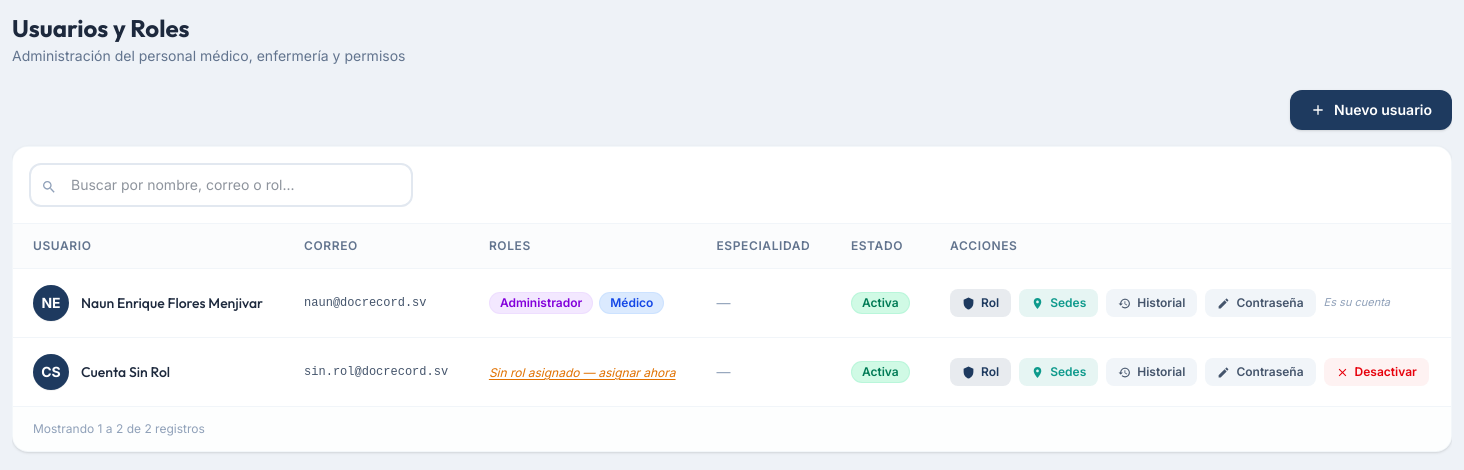
Test: con rol Administrador › busca dentro de lo que vino del API
The width and height of the screenshot is (1464, 470).
Check: the text "Naun Enrique Flores Menjivar" is shown, box [81,293,263,313]
Type "sin.rol" into the field with placeholder "Buscar por nombre, correo o rol..." at (221, 185), box [29,163,413,207]
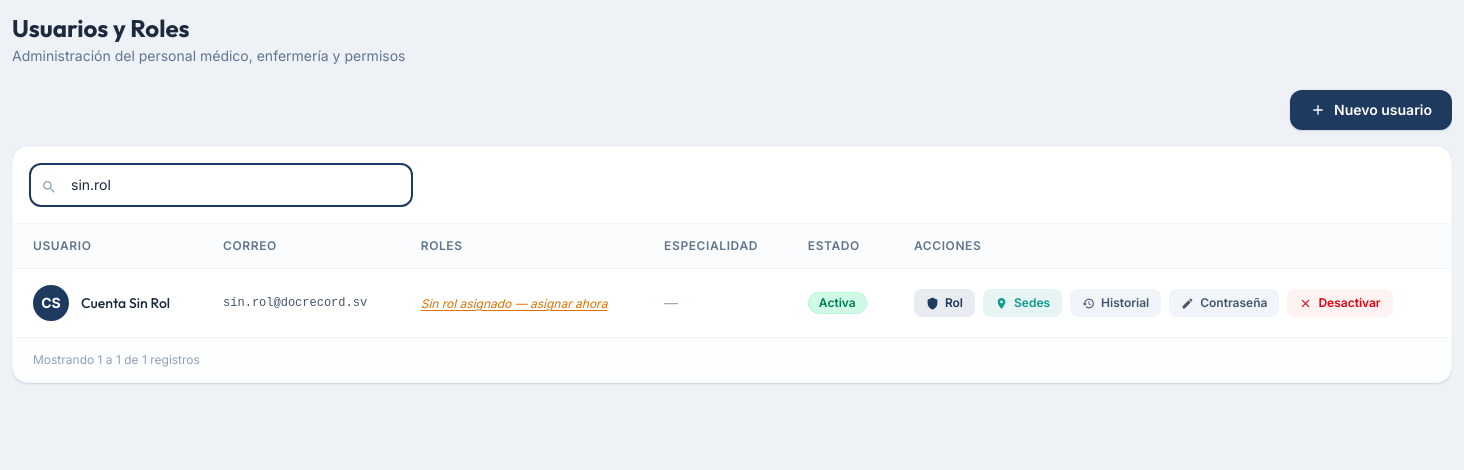
Check: the text "Cuenta Sin Rol" is shown, box [81,293,170,313]
Check: the text "Naun Enrique Flores Menjivar" is gone
